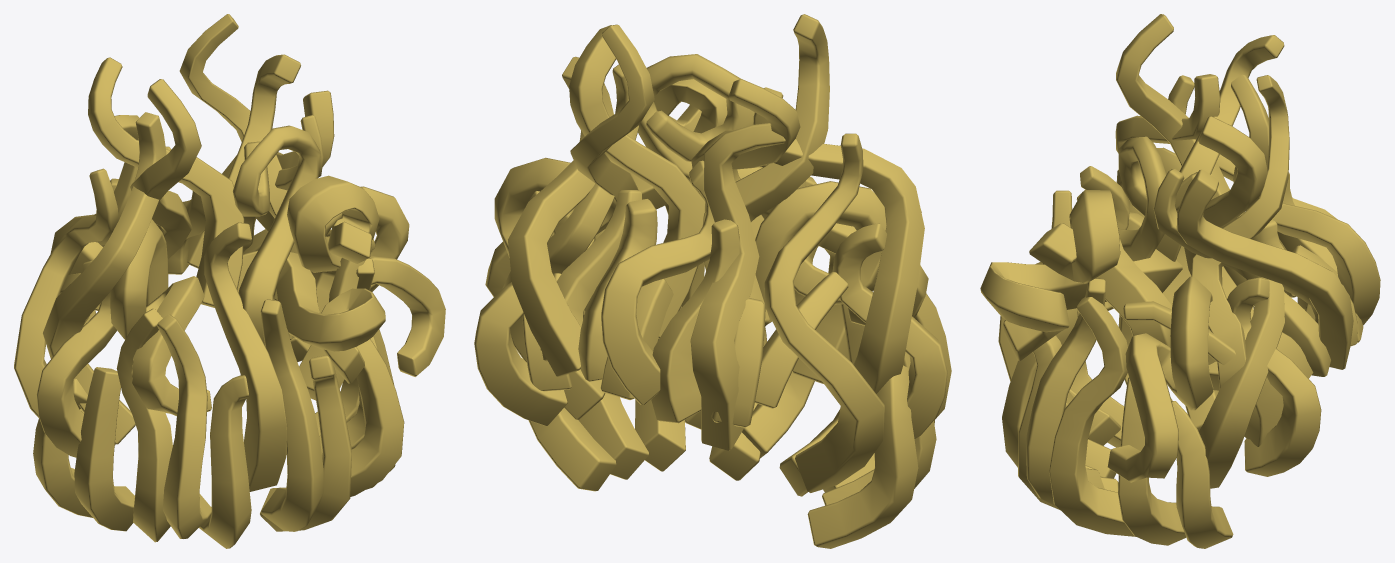
Rendered from Admirals_Hair_Mesh.fbx.
3 views of the same model, side by side, from view 1: azimuth 30°, elevation 25°; view 2: azimuth 150°, elevation 25°; view 3: azimuth 270°, elevation 25° (orthographic). The views are drawn at different scales.
Parts seen in each view (by area): view 1: Admirals_Hair_mesh; view 2: Admirals_Hair_mesh; view 3: Admirals_Hair_mesh.
Boxes of the visible parts, x1,y1,x2,y2 form: Admirals_Hair_mesh: [14, 14, 445, 548]; Admirals_Hair_mesh: [474, 14, 951, 548]; Admirals_Hair_mesh: [980, 14, 1380, 548].
Size of the model in its own units: 36.5 by 38.91 by 30.64.
